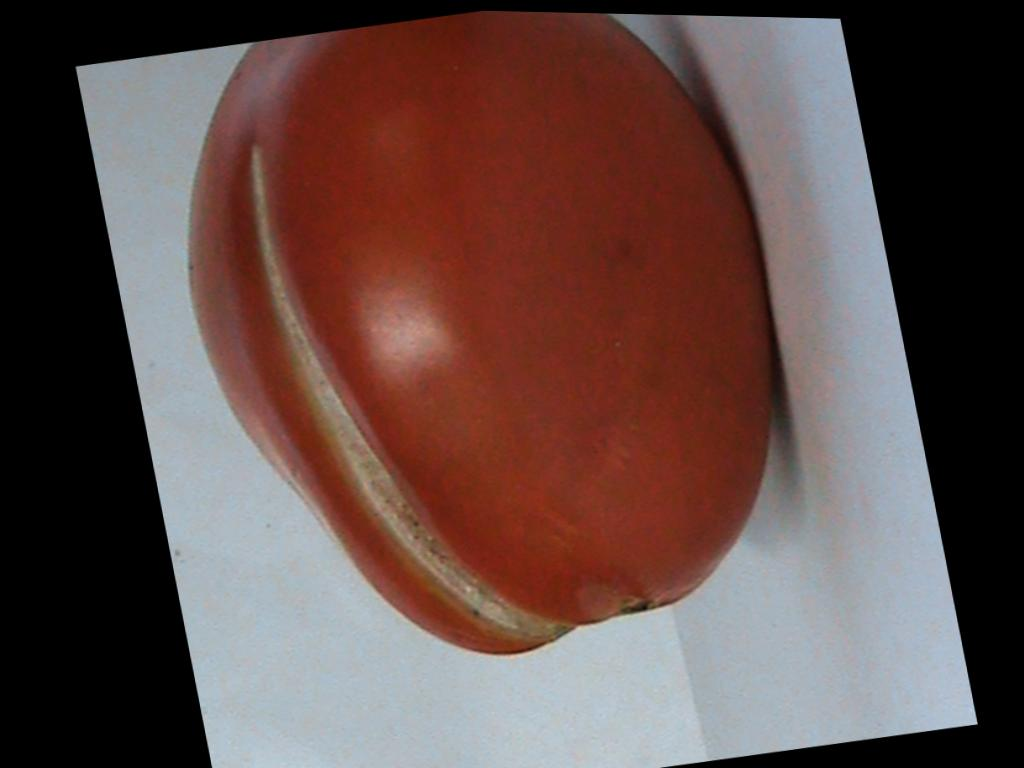surface_damage: (251, 144, 565, 639)
tomato: (190, 11, 769, 652)
